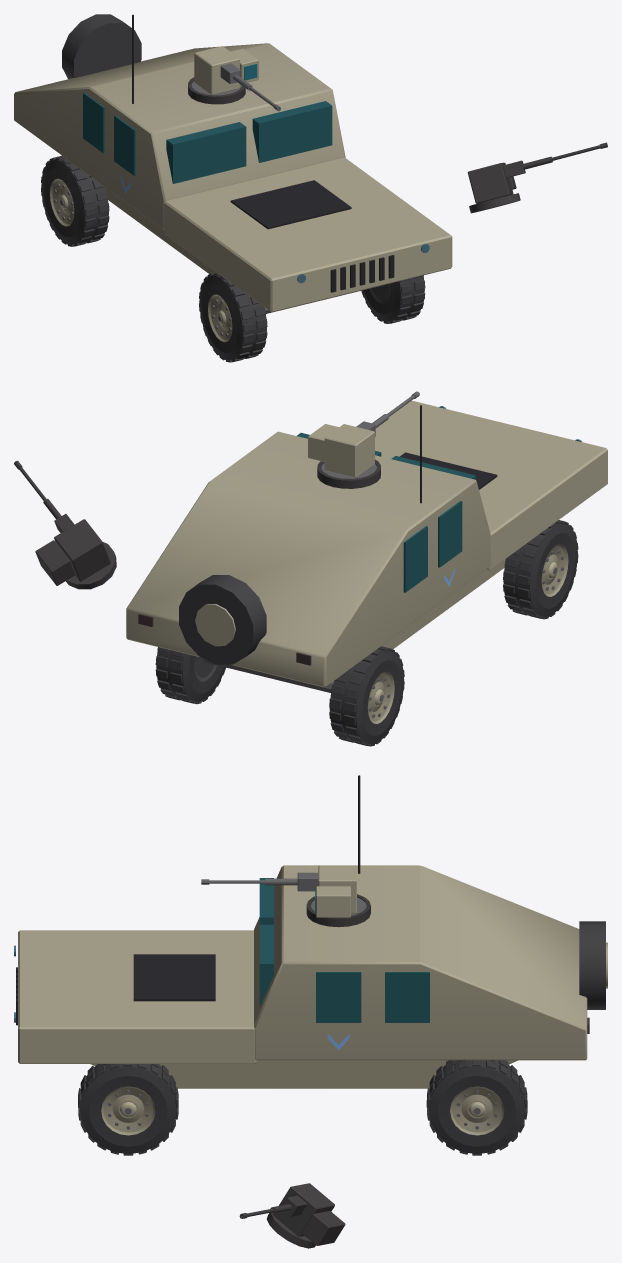
The model's file is reconVehicle__komodo_scout.glb.
The picture shows the model from 3 angles, top to bottom: view 1: azimuth 30°, elevation 25°; view 2: azimuth 150°, elevation 25°; view 3: azimuth 270°, elevation 25°; orthographic projection. The views are drawn at different scales.
Visible parts, largest first — view 1: Hull_Mesh, Wheel_L0_Mesh, Wheel_L1_Mesh, Wreck, Turret_Mesh, Wheel_R1_Mesh, Gun_Mesh; view 2: Hull_Mesh, Wheel_L0_Mesh, Wheel_L1_Mesh, Wreck, Turret_Mesh, Wheel_R0_Mesh; view 3: Hull_Mesh, Wheel_R0_Mesh, Wheel_R1_Mesh, Wreck, Turret_Mesh, Gun_Mesh.
Boxes of the visible parts, <box> form: Hull_Mesh: <box>14,14,452,313</box>; Wheel_L0_Mesh: <box>41,155,109,246</box>; Wheel_L1_Mesh: <box>199,272,267,362</box>; Wreck: <box>71,77,607,358</box>; Turret_Mesh: <box>191,46,258,95</box>; Wheel_R1_Mesh: <box>361,275,425,323</box>; Gun_Mesh: <box>220,63,280,111</box>; Hull_Mesh: <box>126,400,607,692</box>; Wheel_L0_Mesh: <box>329,646,404,746</box>; Wheel_L1_Mesh: <box>503,520,578,619</box>; Wreck: <box>14,459,571,746</box>; Turret_Mesh: <box>308,424,376,478</box>; Wheel_R0_Mesh: <box>155,647,225,704</box>; Hull_Mesh: <box>14,775,607,1088</box>; Wheel_R0_Mesh: <box>426,1060,527,1155</box>; Wheel_R1_Mesh: <box>78,1064,178,1155</box>; Wreck: <box>98,894,454,1248</box>; Turret_Mesh: <box>310,865,366,917</box>; Gun_Mesh: <box>201,872,318,891</box>.
Size of what is drawn, in the model's own units: 5.47 by 3.13 by 5.79.
